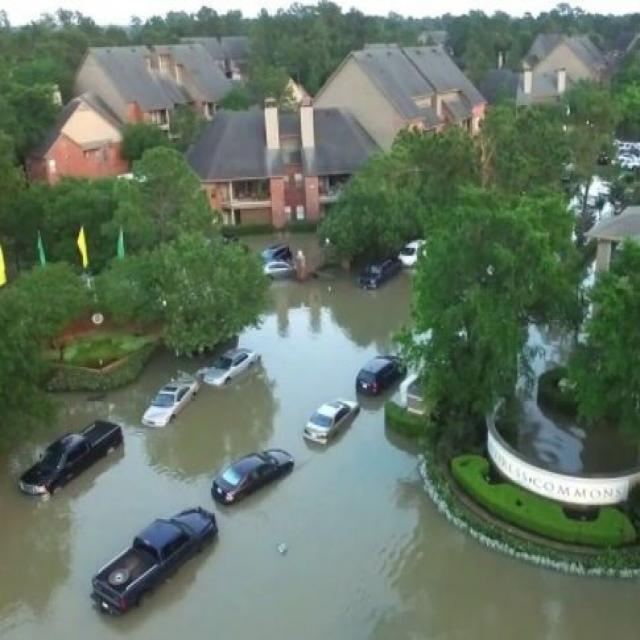flood: (0, 271, 640, 640), (499, 326, 640, 476), (243, 233, 320, 264)
house: (190, 108, 357, 226), (88, 510, 222, 626), (319, 45, 480, 132), (34, 79, 124, 184), (78, 43, 178, 122)
